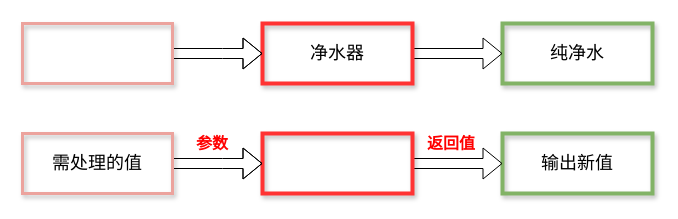
Image size: 678x219. Some labels were removed from this diagram. Each missing label, with the centre of its shape:
自来水: the point at 98,55
过滤器函数: the point at 338,164
